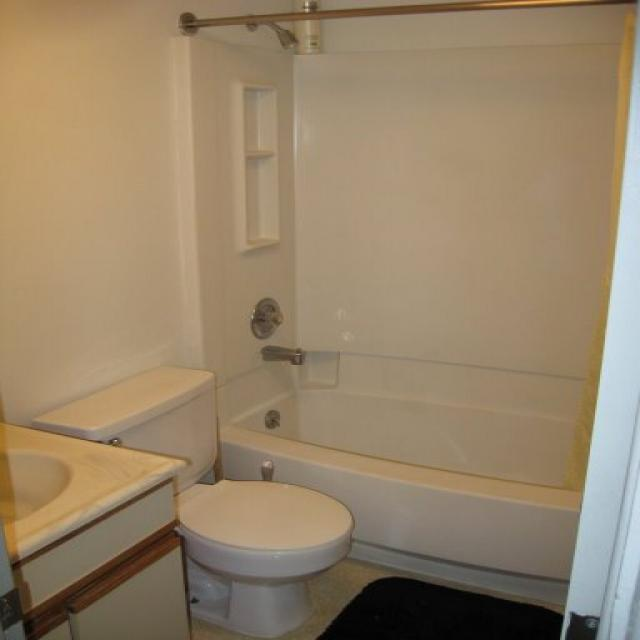bath-mat: (317, 575, 558, 634)
bathtub: (220, 388, 593, 575)
curtain crop: (560, 2, 633, 636)
faucet handle: (262, 342, 305, 365)
sink basin: (2, 422, 178, 554)
toilet bowl: (27, 365, 355, 631)
